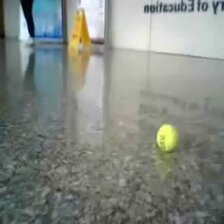tennis: (155, 124, 178, 154)
